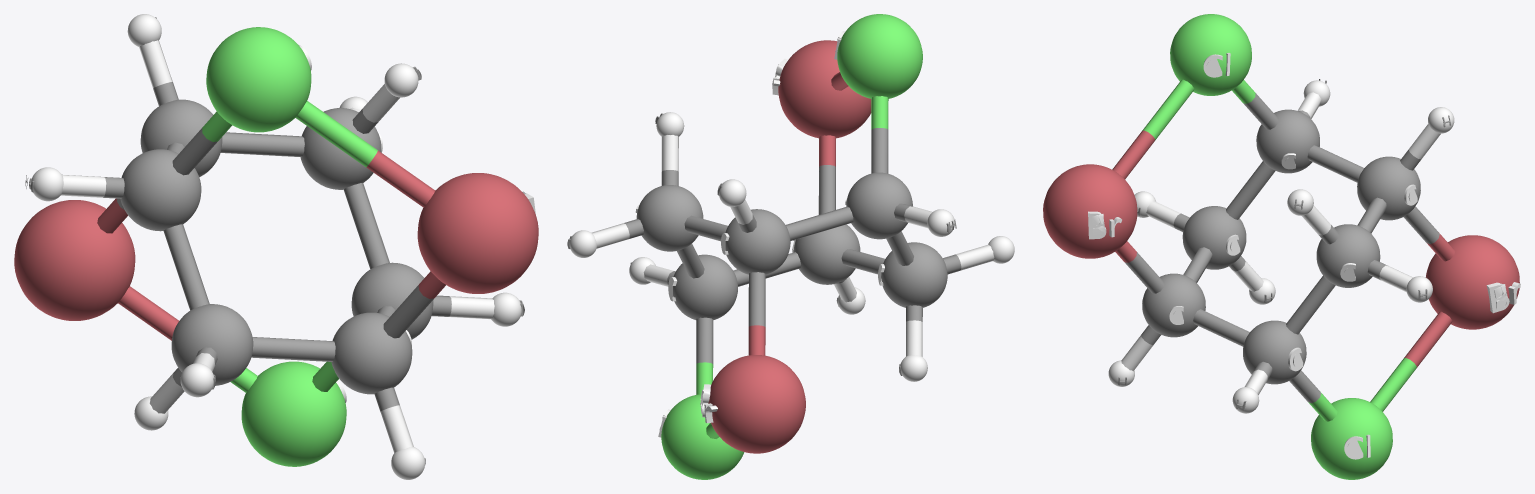
Rendered from cyclohexane-Br2Cl2.fbx.
3 renders of one model, left to right at view 1: azimuth 30°, elevation 25°; view 2: azimuth 150°, elevation 25°; view 3: azimuth 270°, elevation 25°, orthographic. The views are drawn at different scales.
Parts seen in each view (by area): view 1: cyclohexane-Br2Cl2; view 2: cyclohexane-Br2Cl2; view 3: cyclohexane-Br2Cl2.
Boxes of the visible parts, box(x1,y1,x2,y2) form: cyclohexane-Br2Cl2: box(14, 14, 538, 479); cyclohexane-Br2Cl2: box(567, 14, 1014, 479); cyclohexane-Br2Cl2: box(1043, 14, 1520, 479).
Size of the model in its own units: 487 by 546 by 576.
